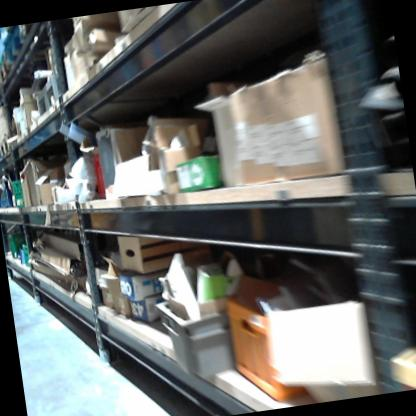pallet: (0, 46, 57, 87), (0, 70, 63, 107), (1, 24, 46, 61), (0, 135, 14, 159), (0, 144, 4, 163)
